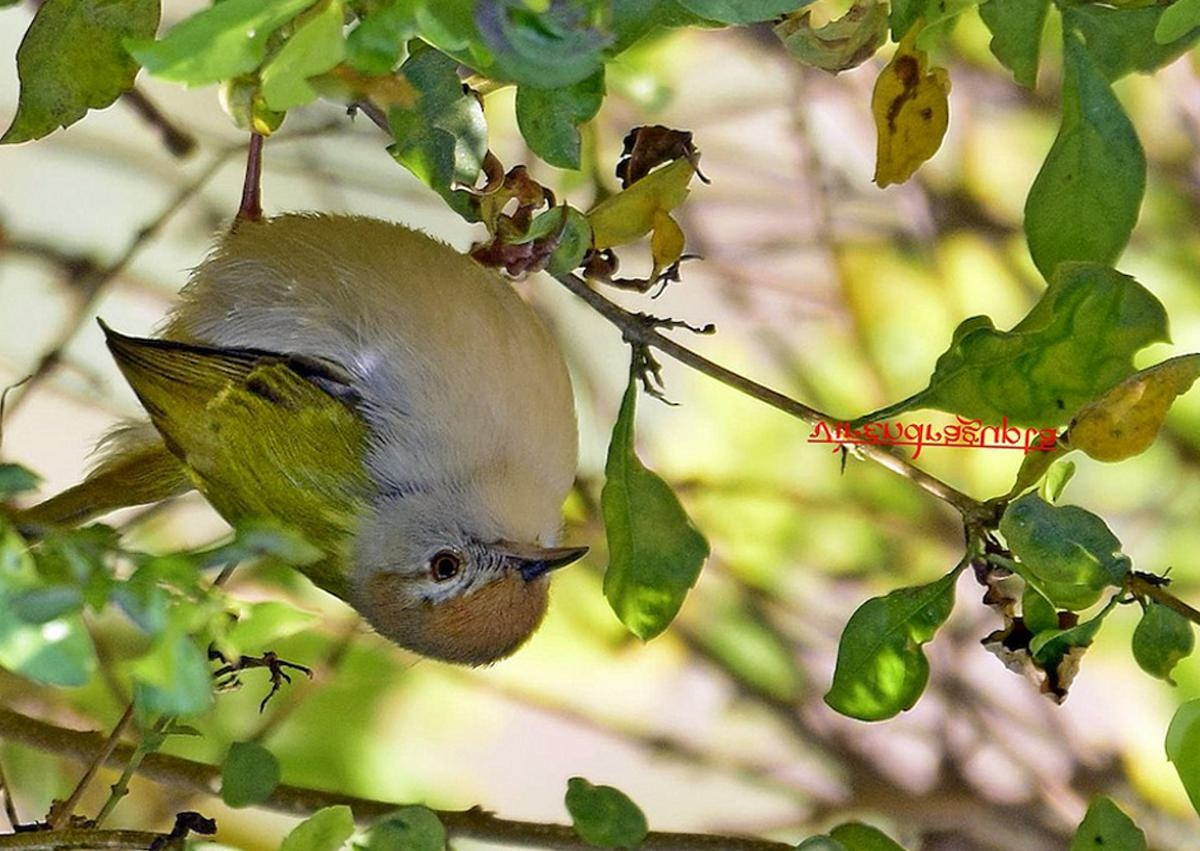tailorbird: (101, 90, 608, 672)
